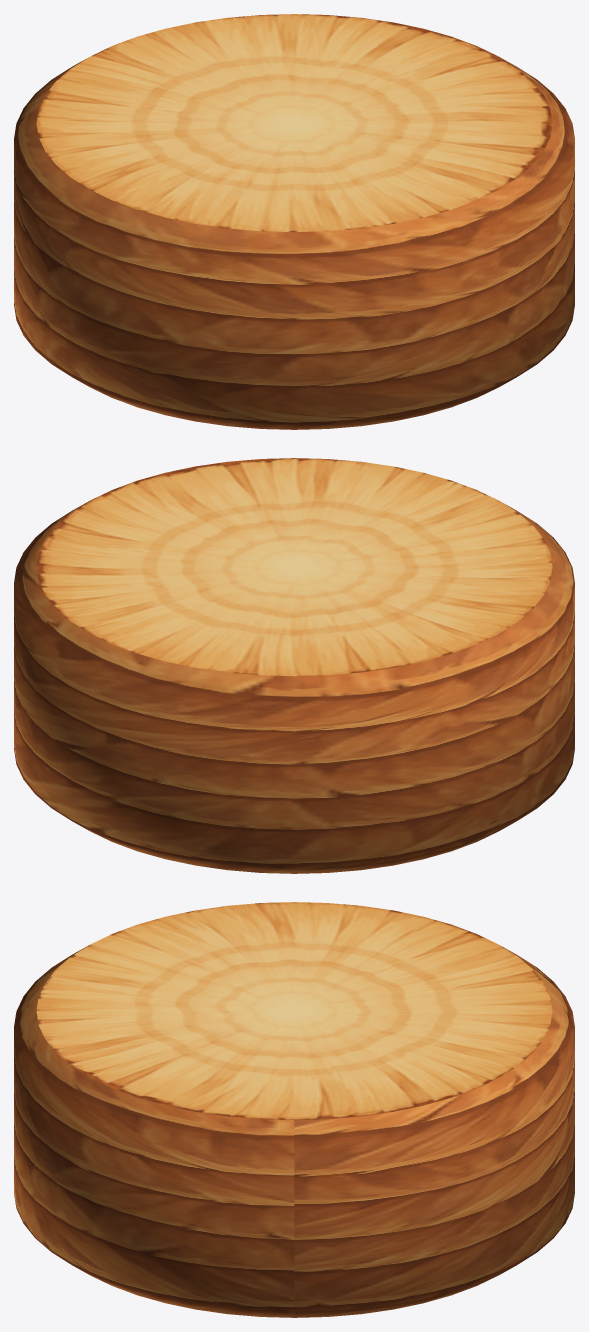
File: palm_log-Dibs4JHI.glb
The picture shows the model from 3 angles, top to bottom: view 1: azimuth 30°, elevation 25°; view 2: azimuth 150°, elevation 25°; view 3: azimuth 270°, elevation 25°; orthographic projection.
Parts seen in each view (by area): view 1: HI_palm_log; view 2: HI_palm_log; view 3: HI_palm_log.
Boxes of the visible parts, x1,y1,x2,y2 form: HI_palm_log: (14,14,574,429); HI_palm_log: (14,458,574,873); HI_palm_log: (14,902,574,1317).
Size of the model in its own units: 0.72 by 0.28 by 0.72.
1 material, 1 textured.
